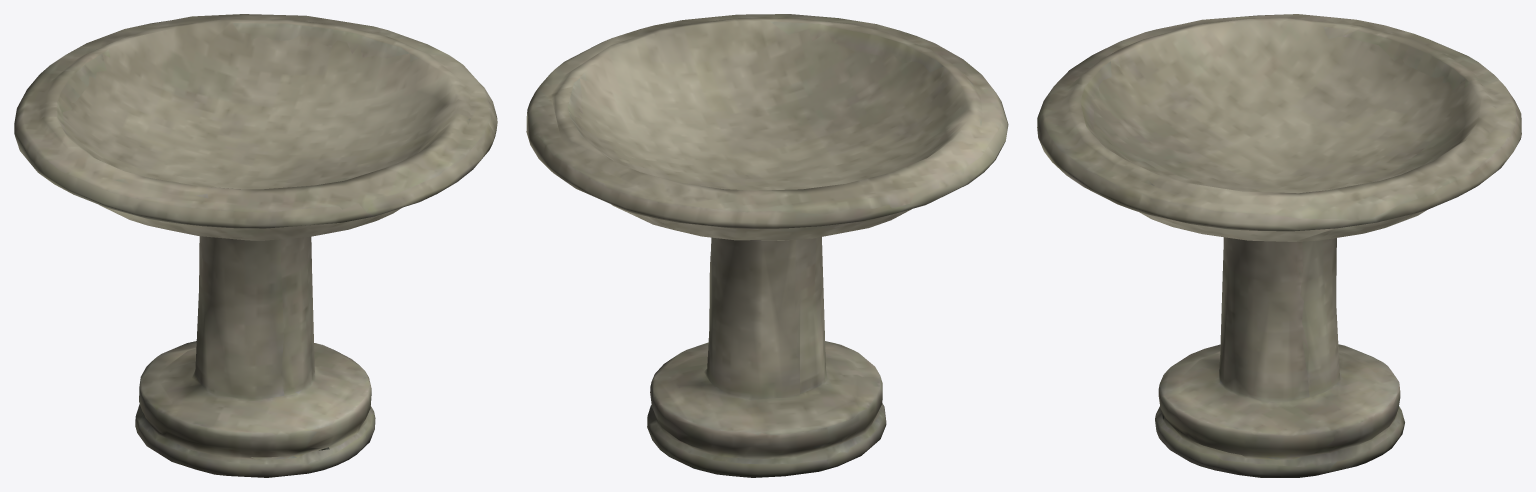
The model's file is rustic-limestone-birdbath-v001.glb.
3 views of the same model, side by side, from view 1: azimuth 30°, elevation 25°; view 2: azimuth 150°, elevation 25°; view 3: azimuth 270°, elevation 25° (orthographic).
Visible parts, largest first — view 1: rustic-limestone-birdbath; view 2: rustic-limestone-birdbath; view 3: rustic-limestone-birdbath.
Boxes of the visible parts, bbox=[...] form: rustic-limestone-birdbath: bbox=[14, 14, 497, 477]; rustic-limestone-birdbath: bbox=[526, 14, 1008, 477]; rustic-limestone-birdbath: bbox=[1037, 14, 1521, 477].
Size of the model in its own units: 0.7313 by 0.5394 by 0.7286.
Materials: 1 (1 with a texture image).
